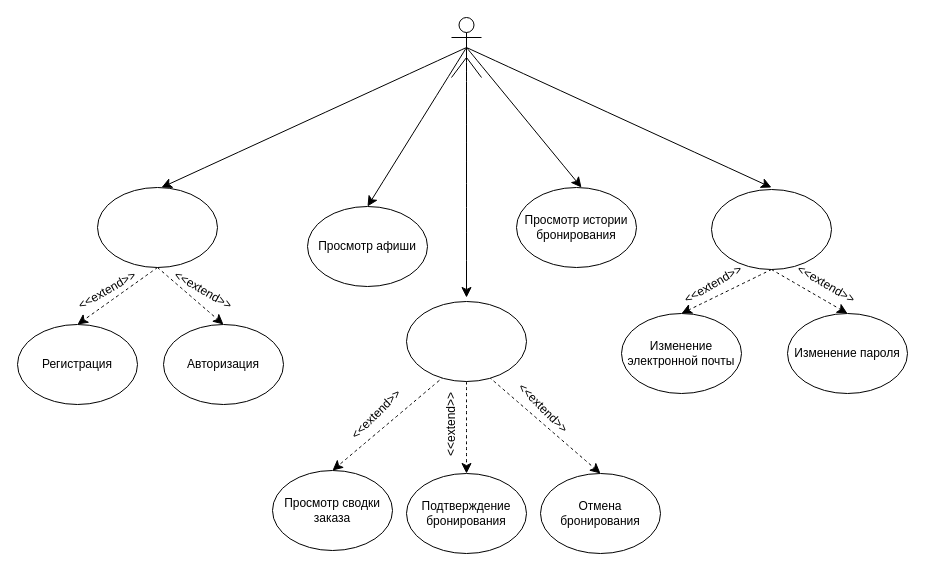
The diagram is 925 pixels wide and 571 high, and some of its shapes have lost their labels. The box of each missing label's shape, as (x1, y1, x2, y2) in pixels:
Аутентификация: (96, 186, 218, 268)
Клиент: (450, 16, 482, 78)
Управление билетами: (406, 300, 526, 382)
Управление учетной записью: (710, 188, 832, 270)
